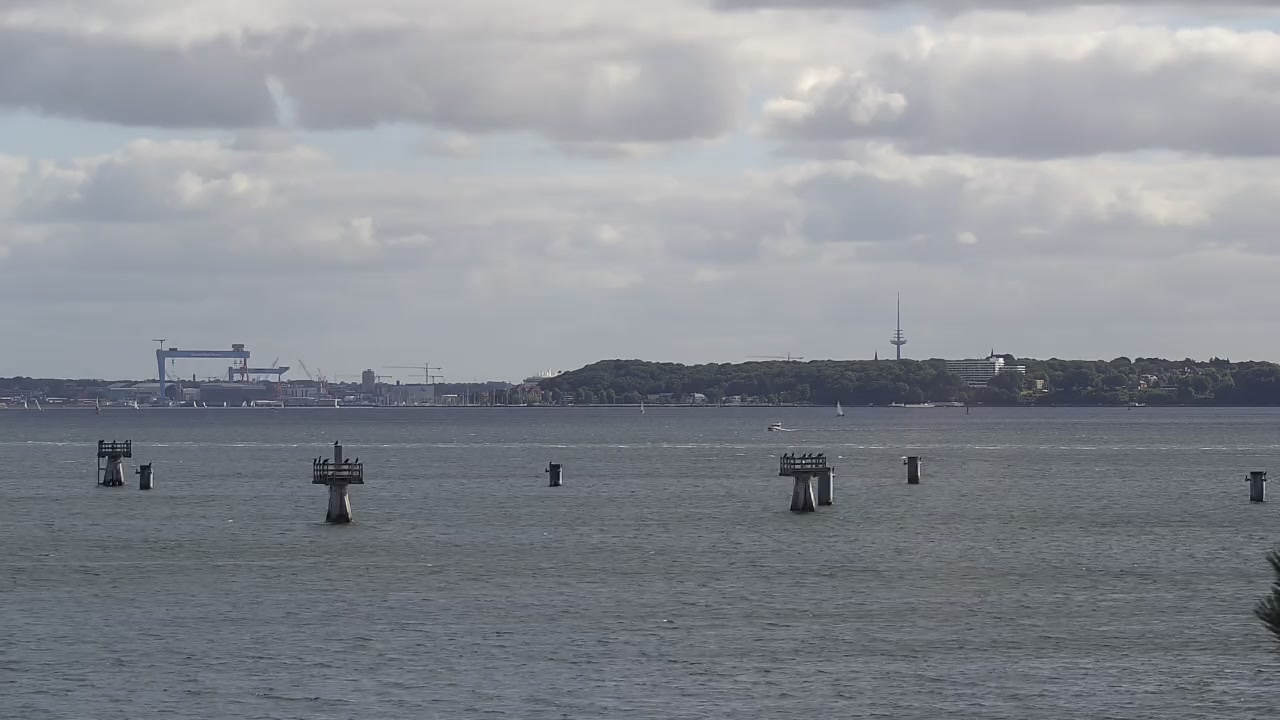sea: (766, 420, 782, 432), (834, 399, 844, 417), (33, 399, 44, 412), (94, 396, 101, 413), (132, 399, 140, 410), (639, 398, 645, 412), (22, 398, 28, 410), (192, 400, 198, 409), (222, 400, 228, 409), (201, 400, 207, 408)
